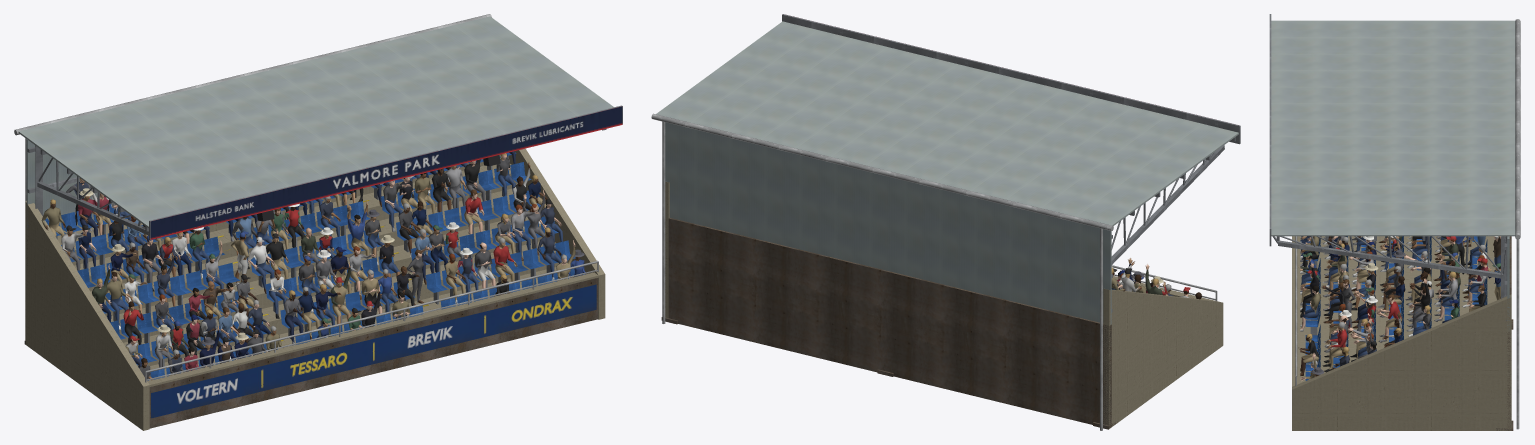
File: stand.glb
3 renders of one model, left to right at view 1: azimuth 30°, elevation 25°; view 2: azimuth 150°, elevation 25°; view 3: azimuth 270°, elevation 25°, orthographic. The views are drawn at different scales.
Visible parts, largest first — view 1: stand, stand people; view 2: stand, stand people; view 3: stand, stand people.
Boxes of the visible parts, box(x1,y1,x2,y2) form: stand: box(14, 14, 622, 430); stand people: box(41, 151, 586, 381); stand: box(651, 14, 1240, 430); stand people: box(1111, 258, 1201, 299); stand: box(1269, 14, 1520, 430); stand people: box(1298, 236, 1500, 380).
Size of the model in its own units: 14.7 by 6.5 by 7.24.
Materials: 12 (10 with a texture image).
